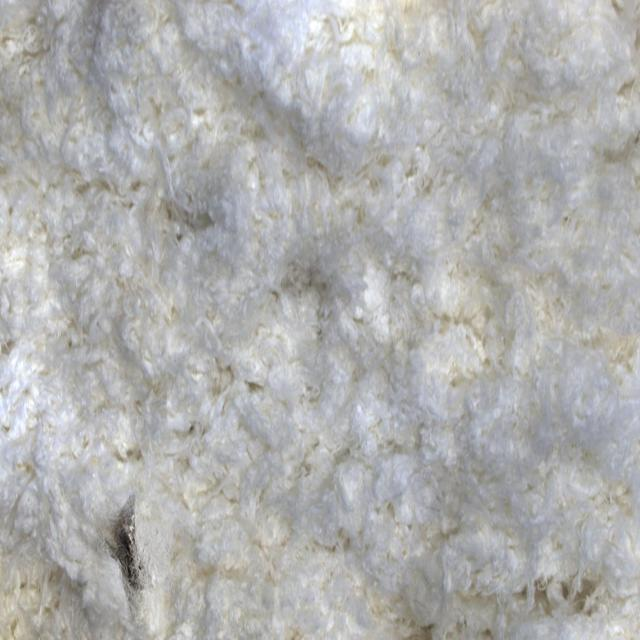dust: (60, 472, 191, 640)
